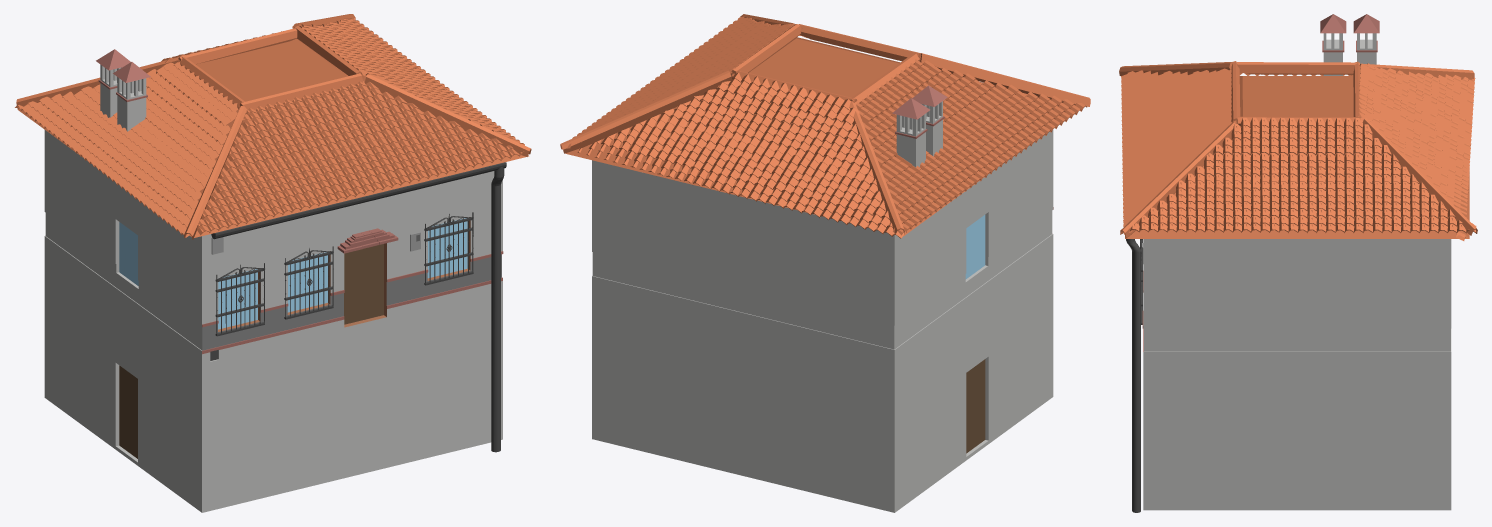
The model's file is 5_Casa_Benarraba_Isidoro_Gil.fbx.
3 renders of one model, left to right at view 1: azimuth 30°, elevation 25°; view 2: azimuth 150°, elevation 25°; view 3: azimuth 270°, elevation 25°, orthographic. The views are drawn at different scales.
Parts seen in each view (by area): view 1: Casa, Teja, Cube.034, Cylinder.087, Cube.033, LadrillosPuerta; view 2: Casa, Teja, Cube.033; view 3: Casa, Teja, Cylinder.087, Cube.033.
Part boxes in pixels (x1,y1,x2,y2): Casa: [17, 38, 528, 512]; Teja: [15, 14, 531, 239]; Cube.034: [215, 212, 473, 336]; Cylinder.087: [211, 162, 506, 452]; Cube.033: [96, 49, 150, 131]; LadrillosPuerta: [337, 228, 398, 253]; Casa: [565, 37, 1053, 512]; Teja: [560, 14, 1090, 238]; Cube.033: [892, 85, 947, 167]; Casa: [1125, 76, 1469, 510]; Teja: [1119, 61, 1477, 240]; Cylinder.087: [1126, 239, 1140, 512]; Cube.033: [1320, 14, 1379, 75].
Bounding box in the file's own units: 1072 × 1112 × 975.
